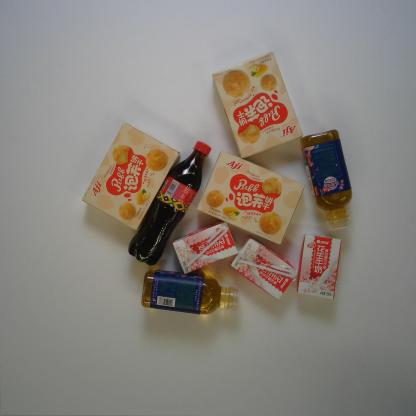Dessert: (82, 122, 180, 231), (197, 151, 305, 245), (212, 51, 303, 159)
Drink: (127, 140, 212, 267), (300, 129, 353, 231), (140, 268, 240, 315)
Milk: (230, 234, 298, 300), (172, 221, 238, 274), (297, 234, 342, 300)
